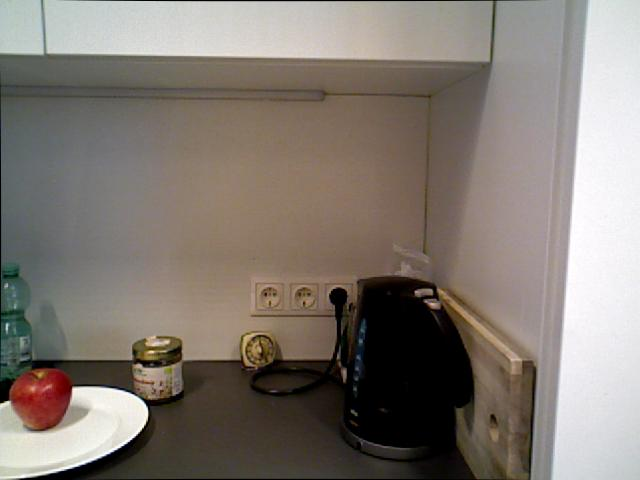apple: (8, 367, 72, 430)
bottle: (0, 262, 33, 389)
clock: (239, 332, 280, 373)
refrigerator: (555, 0, 640, 480)
